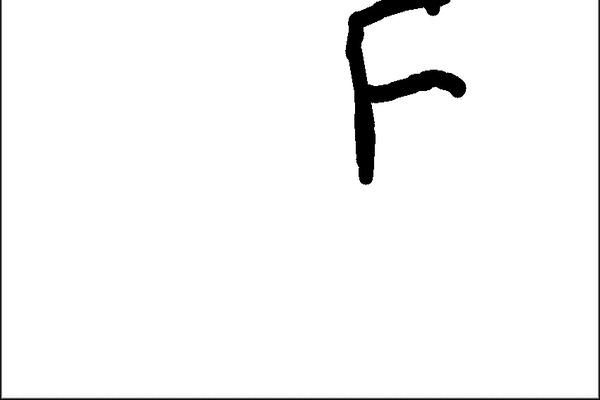F: (340, 0, 469, 189)
